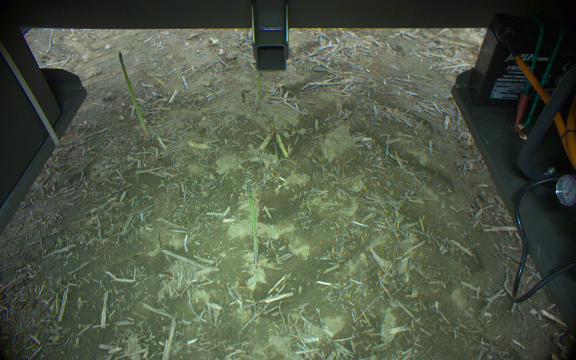aspa: (117, 50, 151, 139), (244, 182, 261, 267), (139, 68, 165, 87), (253, 72, 262, 113)
